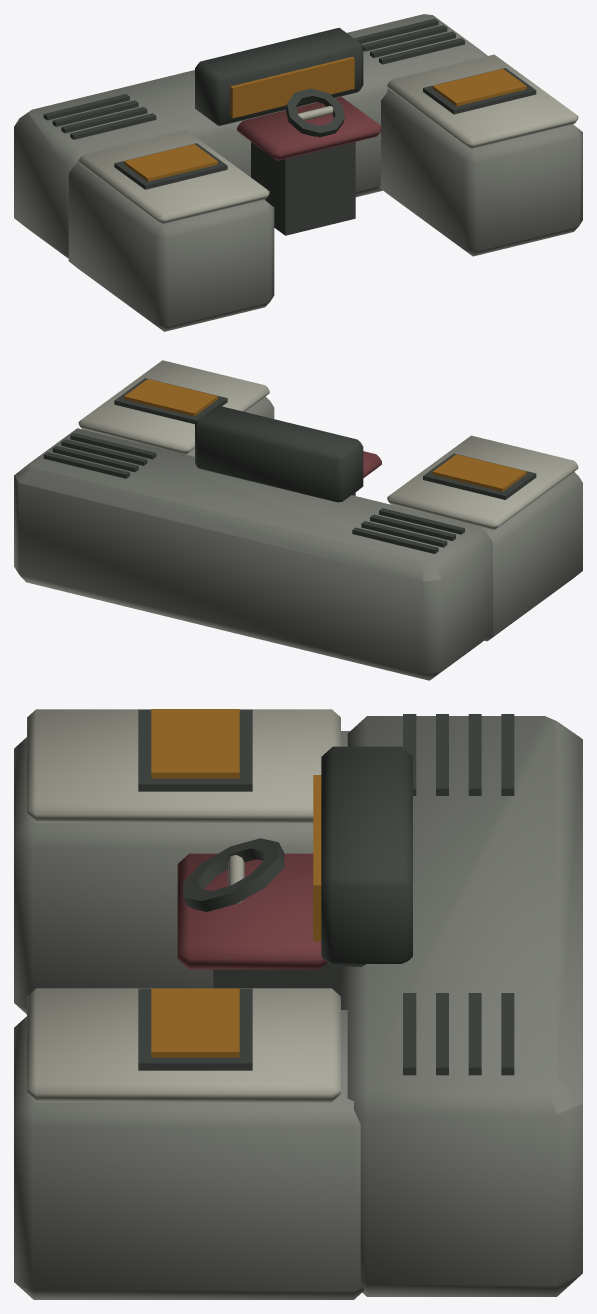
The model's file is pilot_console.obj.
The picture shows the model from 3 angles, top to bottom: view 1: azimuth 30°, elevation 25°; view 2: azimuth 150°, elevation 25°; view 3: azimuth 270°, elevation 25°; orthographic projection. The views are drawn at different scales.
Parts seen in each view (by area): view 1: source_component_001, source_component_009, source_component_000, source_component_002, source_component_010, source_component_019, source_component_017, source_component_020, source_component_018, source_component_012, source_component_004, source_component_021 (+10 smaller); view 2: source_component_000, source_component_017, source_component_001, source_component_002, source_component_010, source_component_004, source_component_012, source_component_003, source_component_011, source_component_007, source_component_008, source_component_013 (+6 smaller); view 3: source_component_000, source_component_009, source_component_001, source_component_010, source_component_002, source_component_017, source_component_020, source_component_004, source_component_012, source_component_021, source_component_003, source_component_011 (+9 smaller).
Part boxes in pixels (box(x1,y1,x2,y2)): source_component_001: box(68, 161, 274, 331); source_component_009: box(379, 88, 582, 256); source_component_000: box(14, 14, 487, 258); source_component_002: box(78, 130, 269, 224); source_component_010: box(387, 54, 578, 148); source_component_019: box(251, 142, 355, 235); source_component_017: box(195, 27, 363, 125); source_component_020: box(237, 96, 381, 160); source_component_018: box(230, 56, 354, 118); source_component_012: box(432, 68, 526, 106); source_component_004: box(124, 144, 217, 181); source_component_021: box(285, 88, 344, 137); source_component_000: box(14, 428, 492, 680); source_component_017: box(195, 405, 363, 502); source_component_001: box(481, 472, 582, 641); source_component_002: box(387, 435, 578, 529); source_component_010: box(78, 360, 269, 454); source_component_004: box(432, 454, 526, 491); source_component_012: box(124, 379, 217, 416); source_component_003: box(423, 453, 536, 499); source_component_011: box(114, 378, 227, 424); source_component_007: box(361, 521, 447, 547); source_component_008: box(352, 527, 438, 553); source_component_013: box(70, 433, 156, 459); source_component_000: box(341, 716, 582, 1296); source_component_009: box(14, 1010, 363, 1299); source_component_001: box(14, 731, 349, 1014); source_component_010: box(27, 988, 340, 1102); source_component_002: box(27, 709, 340, 822); source_component_017: box(321, 746, 412, 966); source_component_020: box(177, 853, 327, 969); source_component_004: box(151, 709, 239, 778); source_component_012: box(151, 988, 239, 1057); source_component_021: box(183, 838, 284, 911); source_component_003: box(138, 709, 252, 791); source_component_011: box(138, 988, 252, 1070).
Bounding box in the file's own units: 2.8 × 1.03 × 1.74.
